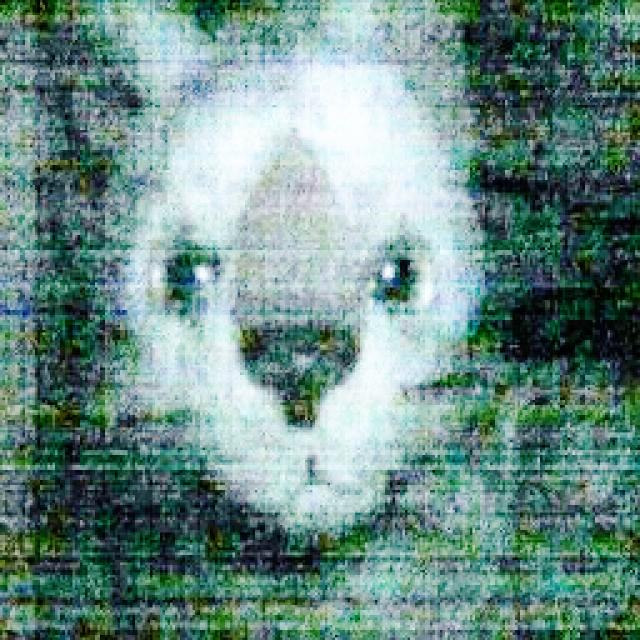cat: (66, 0, 541, 574)
